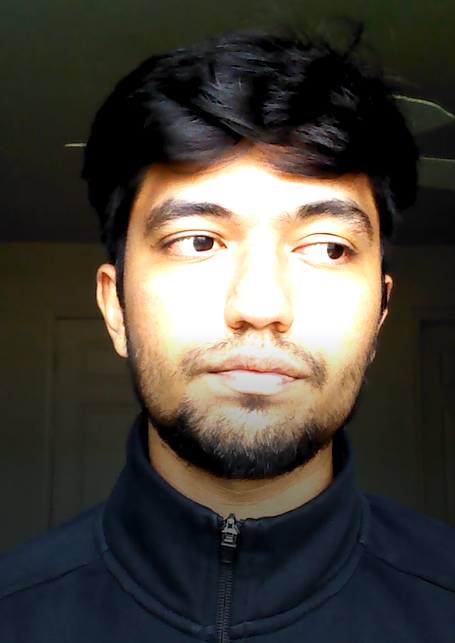Not Sleeping: (139, 199, 379, 285)
